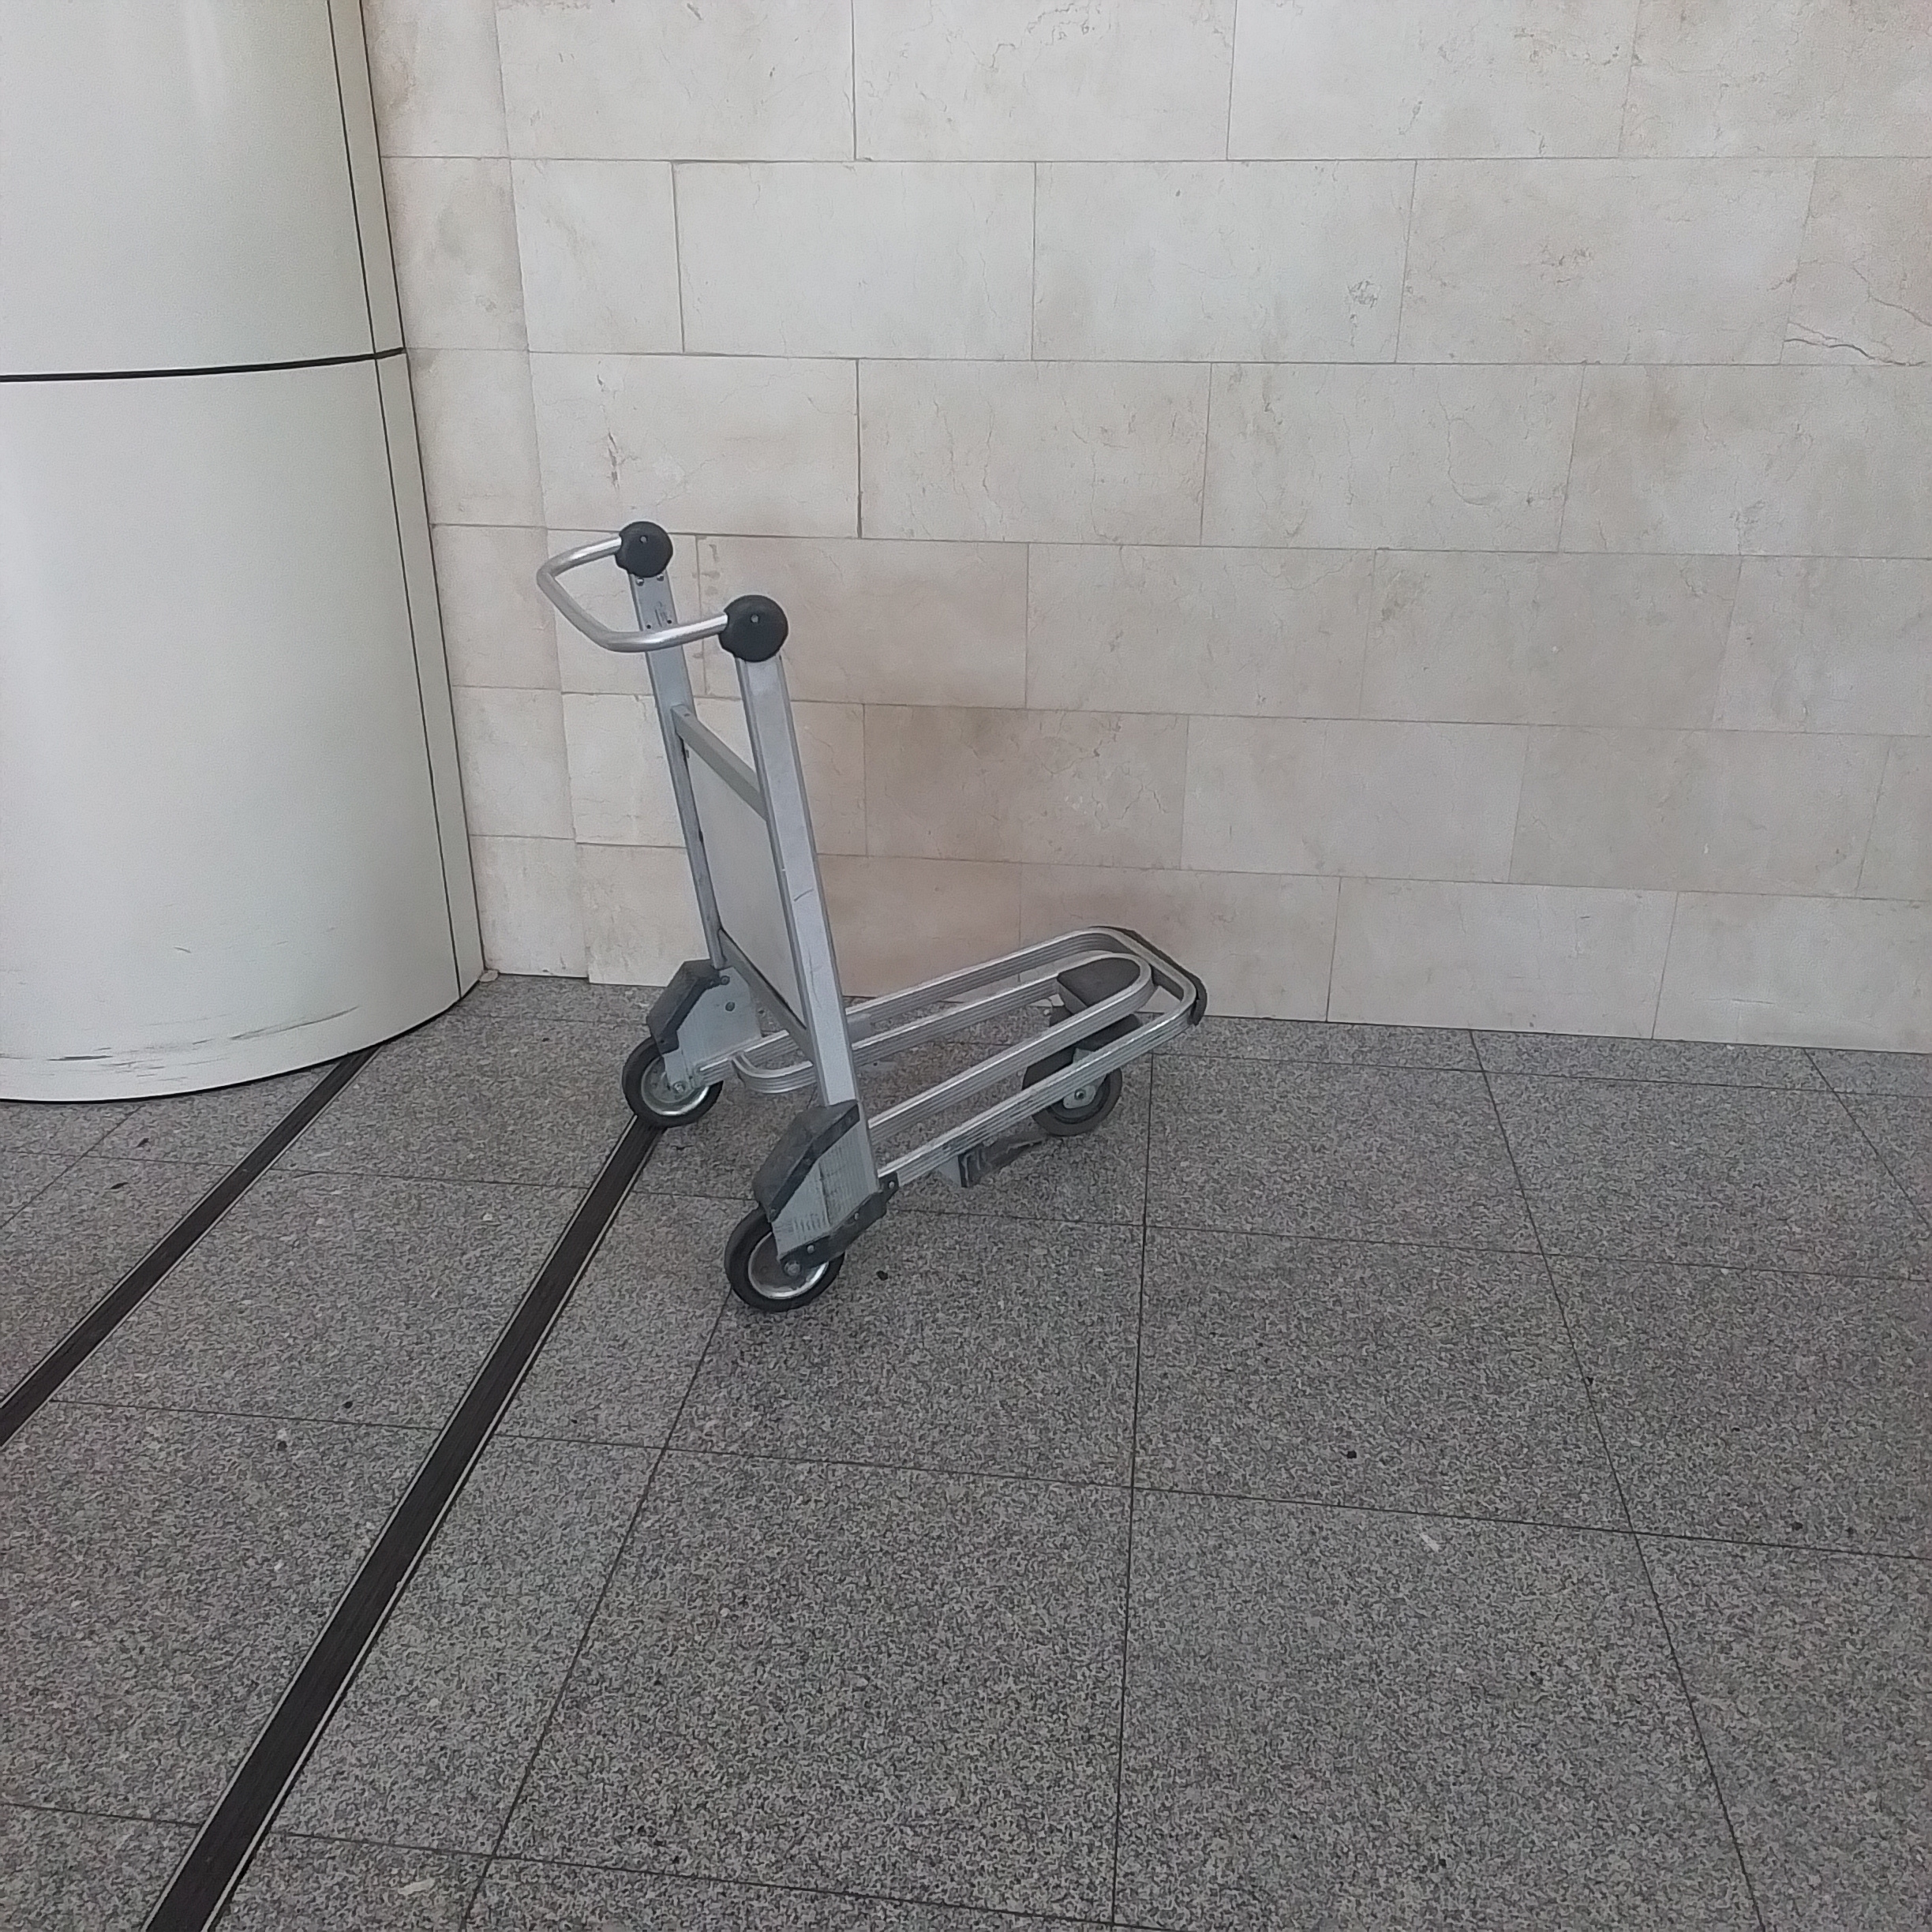airport-trolley: (522, 517, 1237, 1316)
